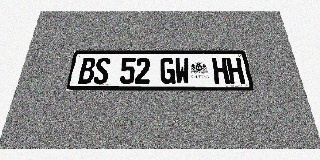2: (135, 57, 150, 84)
5: (120, 57, 136, 84)
B: (77, 57, 96, 84)
G: (160, 57, 175, 84)
H: (226, 57, 245, 84), (212, 57, 230, 84)
S: (93, 57, 111, 84)
W: (175, 57, 191, 84)
